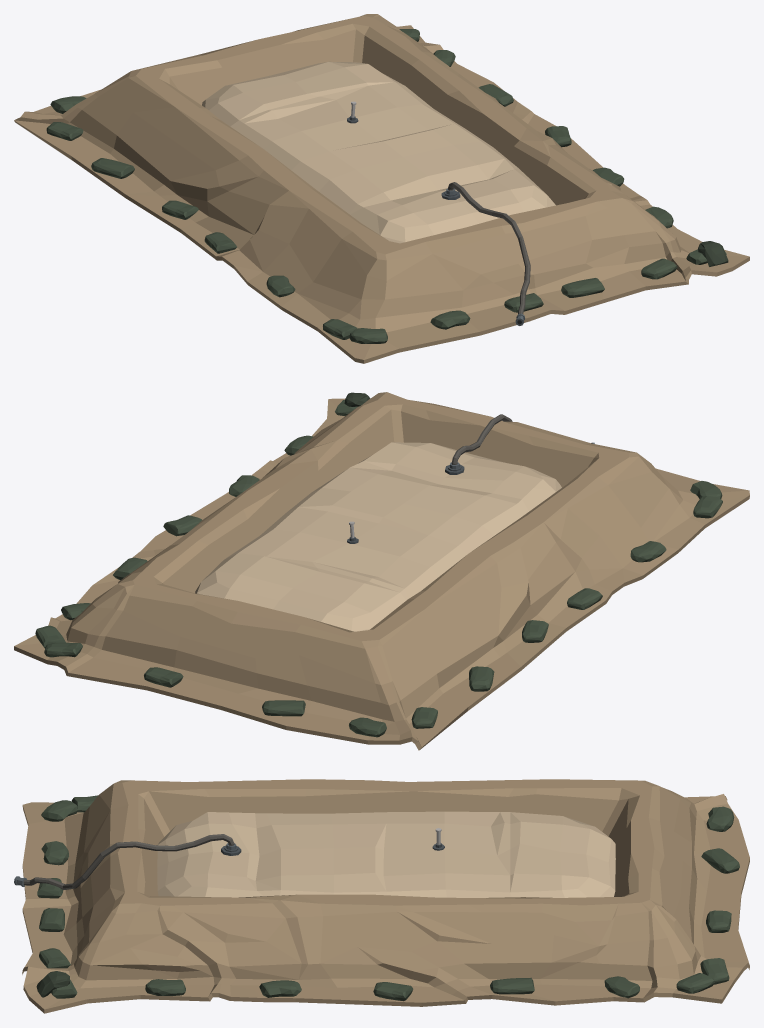
Rendered from SM_Prop_Fuel_Bladder_02.fbx.
3 views of the same model, one above another, from view 1: azimuth 30°, elevation 25°; view 2: azimuth 150°, elevation 25°; view 3: azimuth 270°, elevation 25° (orthographic). The views are drawn at different scales.
Visible parts, largest first — view 1: SM_Prop_Fuel_Bladder_02; view 2: SM_Prop_Fuel_Bladder_02; view 3: SM_Prop_Fuel_Bladder_02.
Boxes of the visible parts, x1,y1,x2,y2 form: SM_Prop_Fuel_Bladder_02: (14, 14, 749, 363); SM_Prop_Fuel_Bladder_02: (14, 392, 749, 750); SM_Prop_Fuel_Bladder_02: (14, 779, 749, 1013).
Bounding box in the file's own units: 904 × 152 × 1321.
